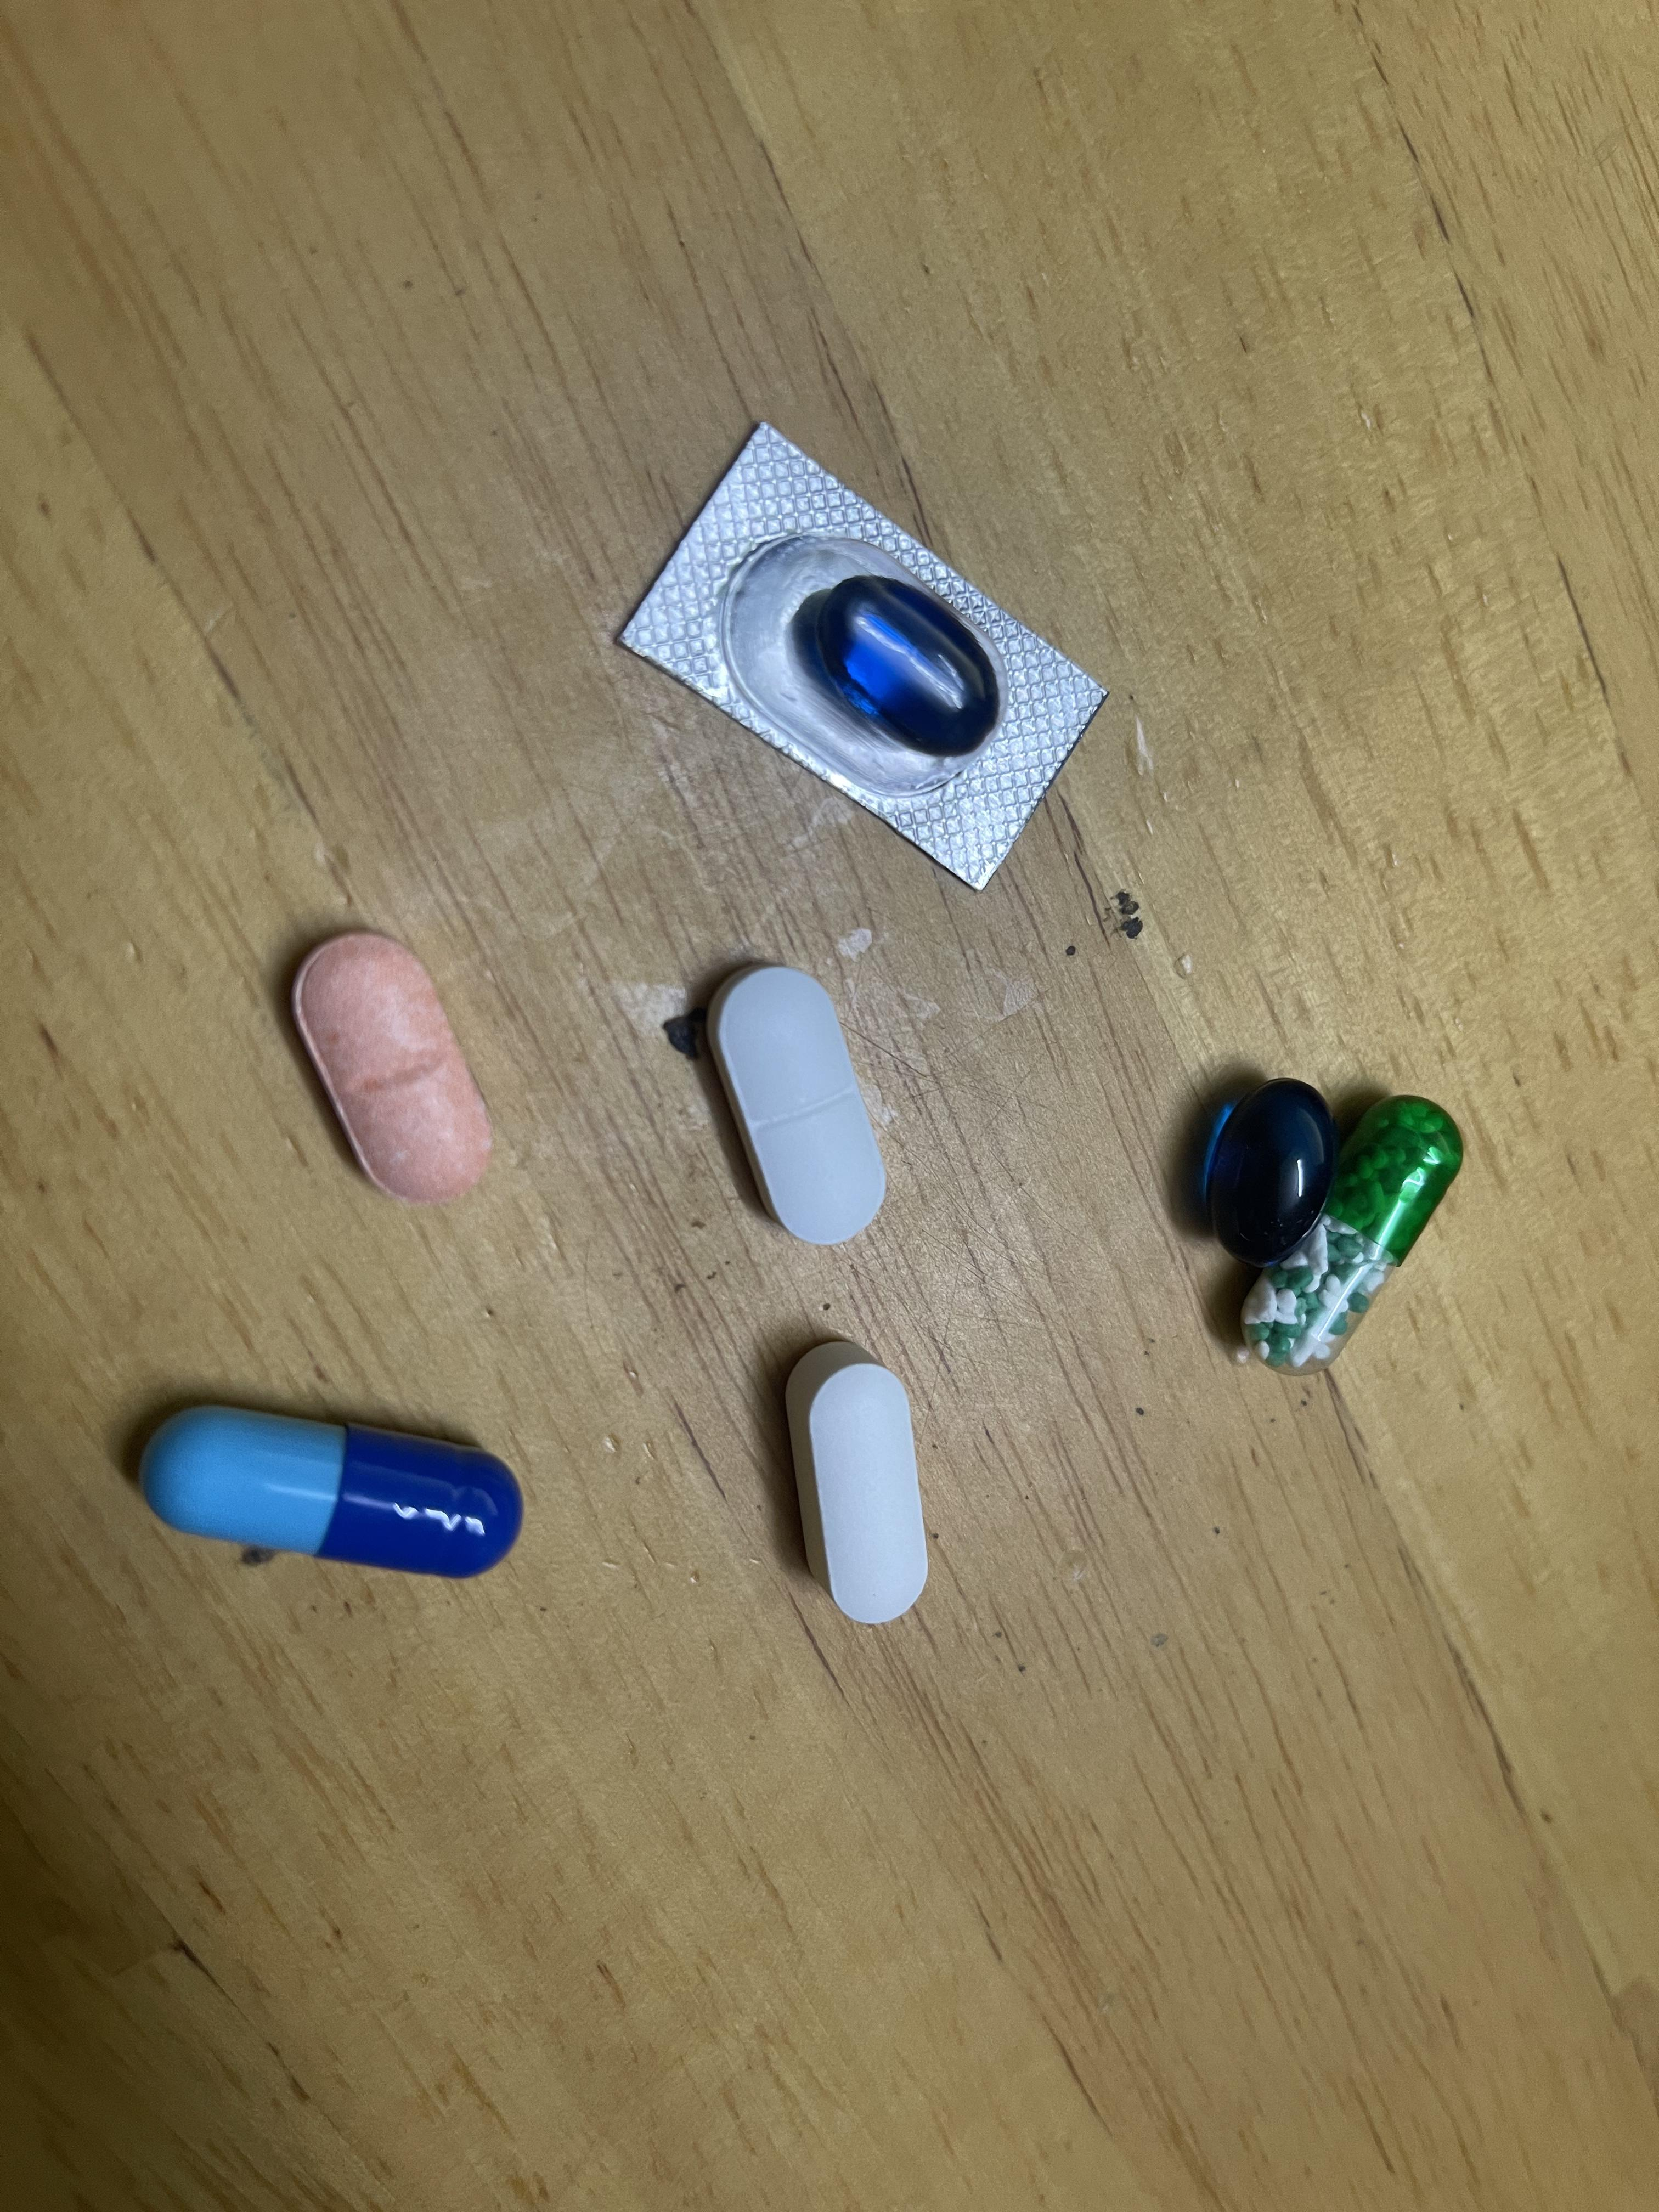Lincomyxin_500mg: (1197, 1078, 1331, 1264), (831, 596, 990, 745)
Loratadine_10mg: (291, 932, 495, 1207)
Paracetamol_350mg: (708, 963, 885, 1244)
Paracetamol_500mg: (798, 1359, 929, 1618)
Paracetamol_650mg: (1239, 1097, 1467, 1369)
pill: (148, 1404, 507, 1569)
